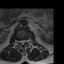CCS_normal: (22, 38, 24, 46)
LFS_normal: (26, 37, 28, 43)
LLS_normal: (24, 37, 26, 44)
RFS_stenosis: (17, 38, 19, 44)
RLS_normal: (19, 38, 21, 44)
